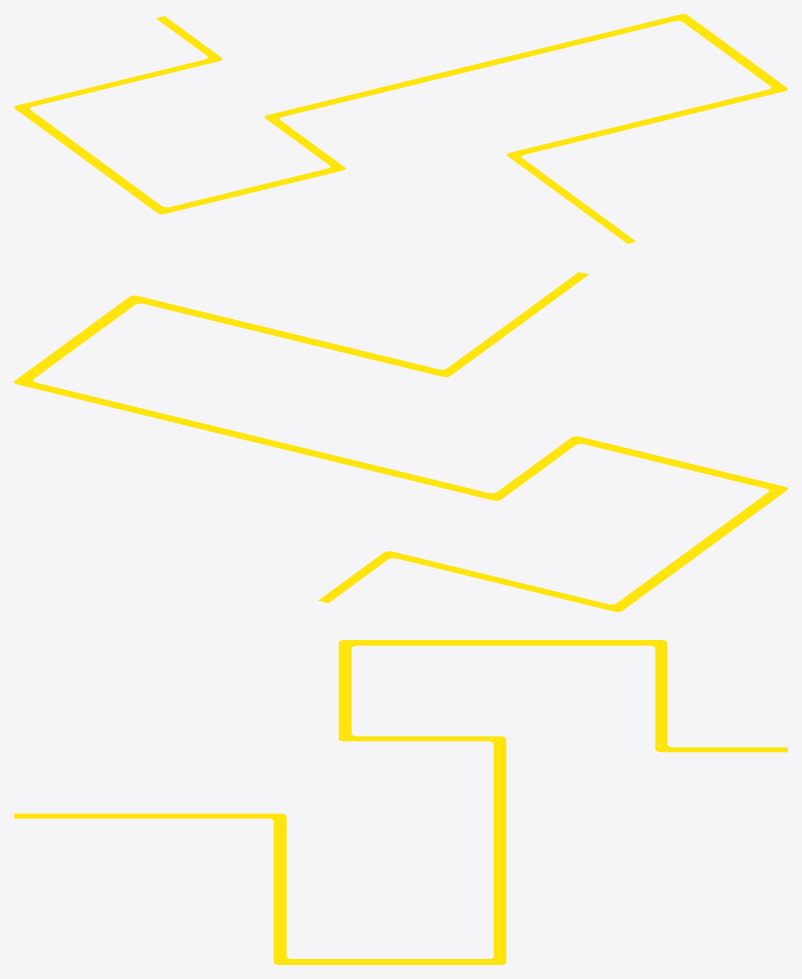
The model's file is Lane_2.fbx.
3 renders of one model, top to bottom at view 1: azimuth 30°, elevation 25°; view 2: azimuth 150°, elevation 25°; view 3: azimuth 270°, elevation 25°, orthographic. The views are drawn at different scales.
Visible parts, largest first — view 1: LANE_2; view 2: LANE_2; view 3: LANE_2.
Part boxes in pixels (left/top/right/bottom): LANE_2: left=14, top=14, right=787, bottom=243; LANE_2: left=14, top=272, right=787, bottom=611; LANE_2: left=14, top=640, right=787, bottom=964.
Size of the model in its own units: 2438 by 0.0004 by 2454.
